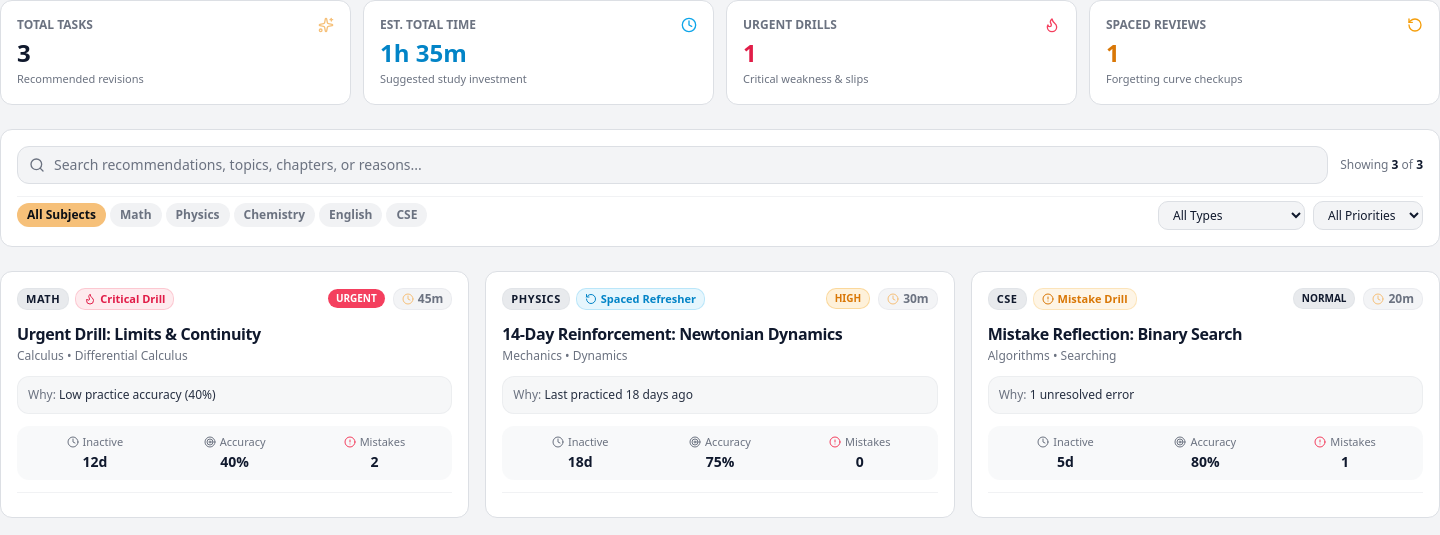
Test case: RevisionRecommendationsList › filters recommendations by subject button pill
This screenshot has width=1440, height=535.
Click the button "Physics".
click(198, 215)  # box [166,203,230,227]
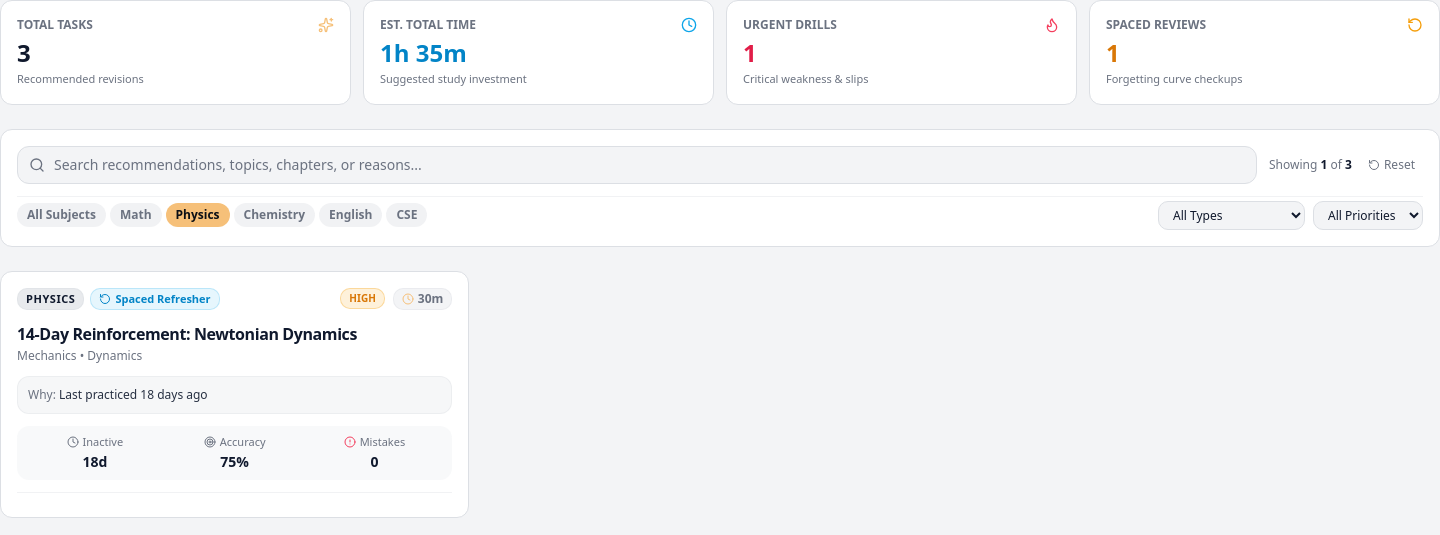
Expected: the heading "14-Day Reinforcement: Newtonian Dynamics" is shown, [17,323,357,345]
Now the heading "Urgent Drill: Limits & Continuity" is gone
